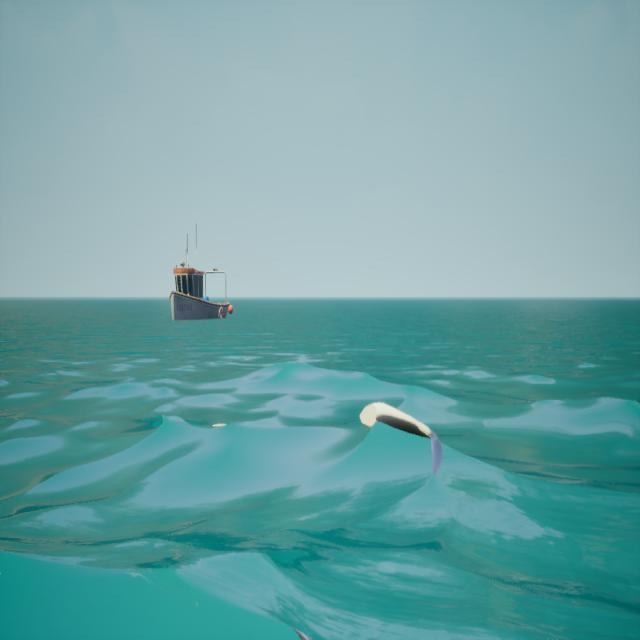ship: (170, 226, 230, 320)
